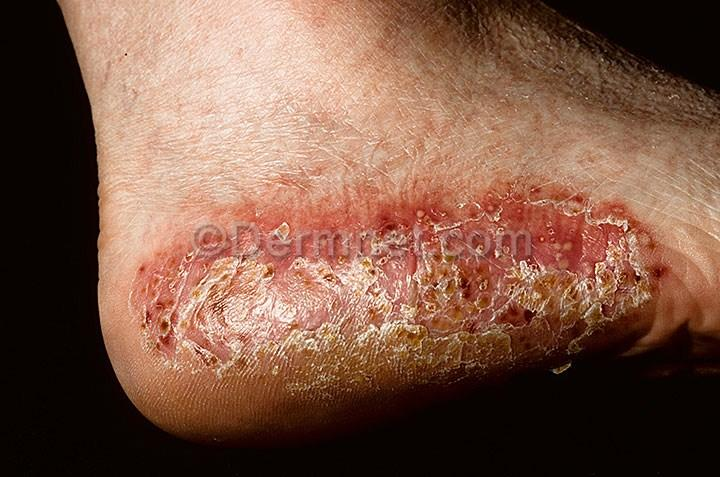Eczema: (314, 267, 430, 376), (520, 240, 622, 344), (248, 196, 348, 285), (412, 200, 518, 276), (108, 246, 186, 344), (230, 274, 314, 355), (440, 286, 519, 367), (173, 222, 249, 302), (350, 192, 421, 269), (164, 296, 232, 369), (508, 173, 577, 240), (267, 348, 336, 409), (581, 194, 638, 267), (195, 356, 266, 404), (427, 163, 504, 207), (408, 347, 478, 391), (125, 329, 179, 386), (622, 280, 672, 339), (633, 221, 681, 279), (207, 175, 259, 224), (345, 370, 397, 412)
